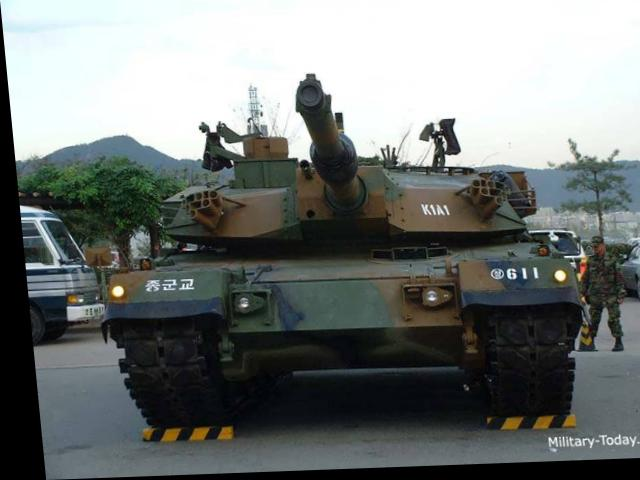other: (561, 223, 640, 359)
tank: (98, 150, 587, 427)
